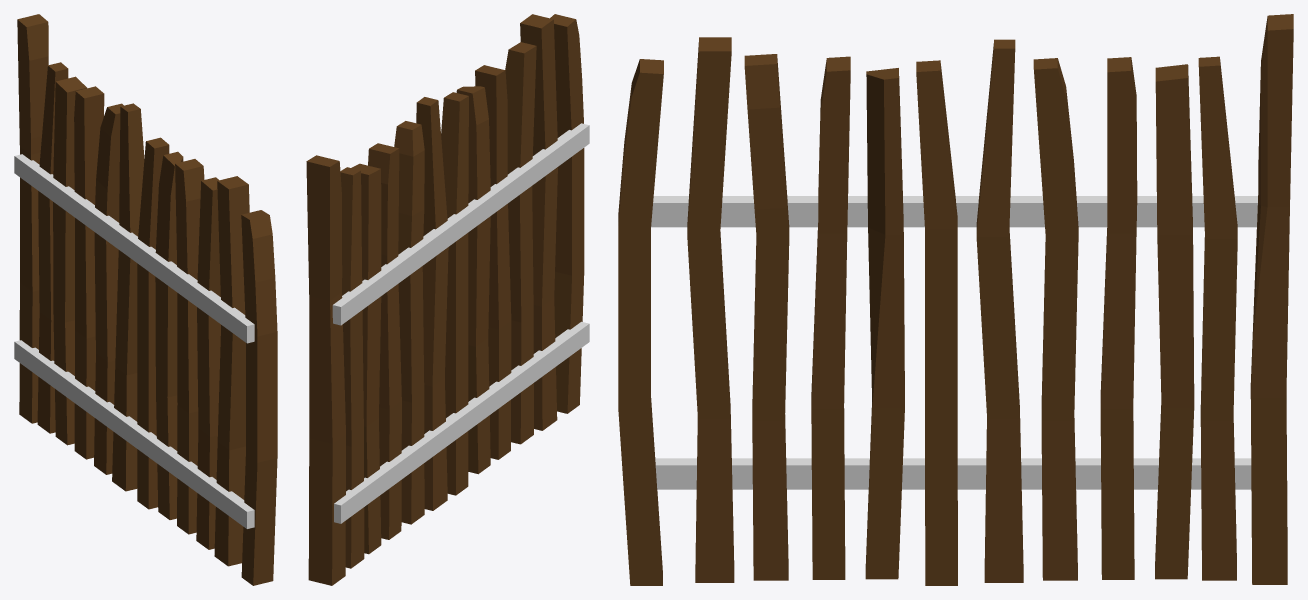
Rendered from Fence_New_3_Brown.fbx.
The picture shows the model from 3 angles, left to right: view 1: azimuth 30°, elevation 25°; view 2: azimuth 150°, elevation 25°; view 3: azimuth 270°, elevation 25°; orthographic projection. The views are drawn at different scales.
Parts seen in each view (by area): view 1: Cube.044, Cube.042; view 2: Cube.044, Cube.042; view 3: Cube.044, Cube.042.
Part boxes in pixels (x1,y1,x2,y2): Cube.044: (17,14,277,585); Cube.042: (14,154,254,528); Cube.044: (306,14,584,585); Cube.042: (332,123,589,523); Cube.044: (618,14,1293,585); Cube.042: (651,196,1257,489).
Size of the model in its own units: 14.48 by 185 by 203.
